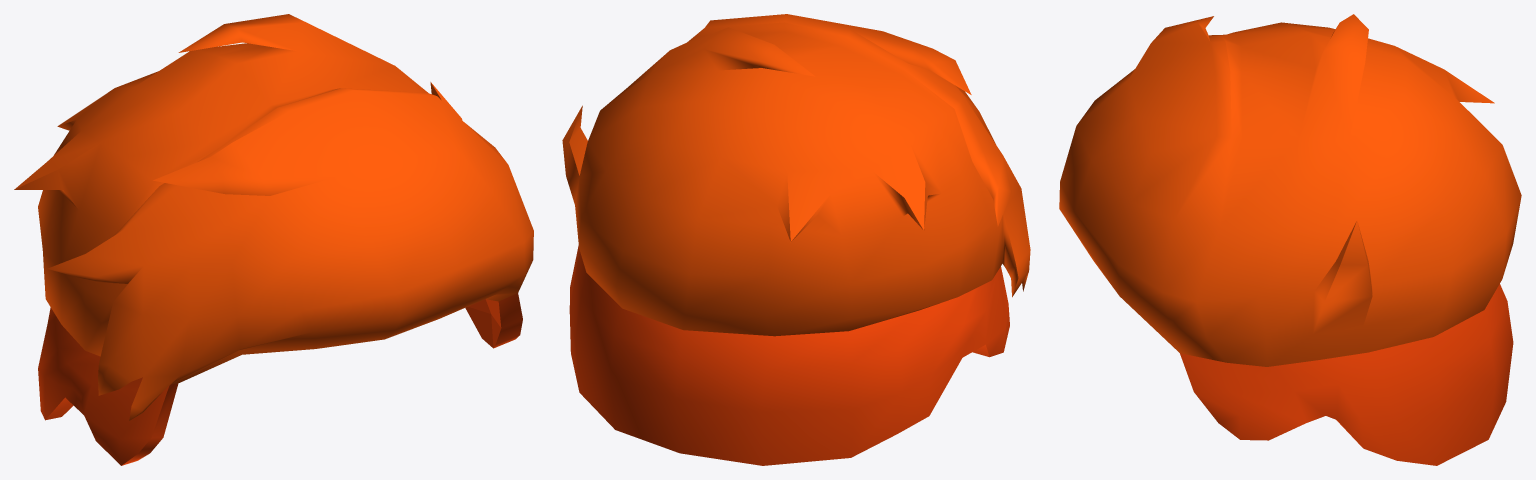
The model's file is Hair_12_06.fbx.
3 renders of one model, left to right at view 1: azimuth 30°, elevation 25°; view 2: azimuth 150°, elevation 25°; view 3: azimuth 270°, elevation 25°, orthographic. The views are drawn at different scales.
Visible parts, largest first — view 1: Hair_12_06; view 2: Hair_12_06; view 3: Hair_12_06.
Part boxes in pixels (x1,y1,x2,y2): Hair_12_06: [14, 14, 533, 465]; Hair_12_06: [562, 14, 1030, 465]; Hair_12_06: [1059, 14, 1521, 465].
Bounding box in the file's own units: 40.83 × 34.03 × 38.32.
